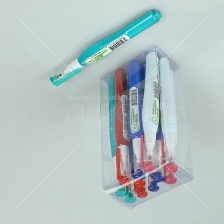correction_fluid: (45, 6, 162, 87), (137, 48, 161, 172), (106, 76, 129, 197), (157, 54, 179, 167), (126, 57, 146, 181), (112, 65, 130, 188)
plastic_box: (97, 41, 197, 211)
